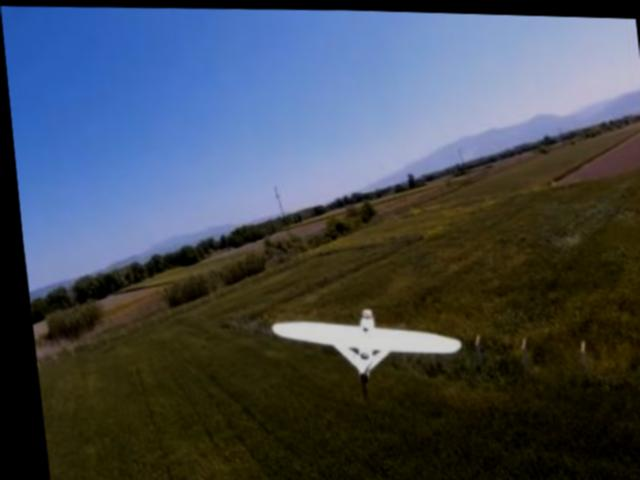uav: (257, 301, 464, 379)
